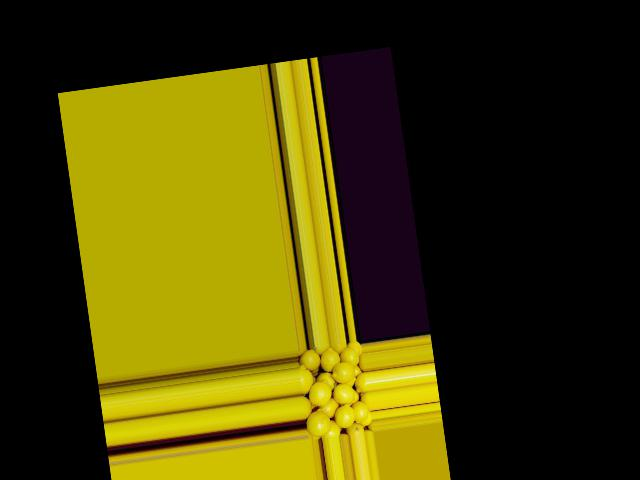lemon: (296, 361, 314, 393)
